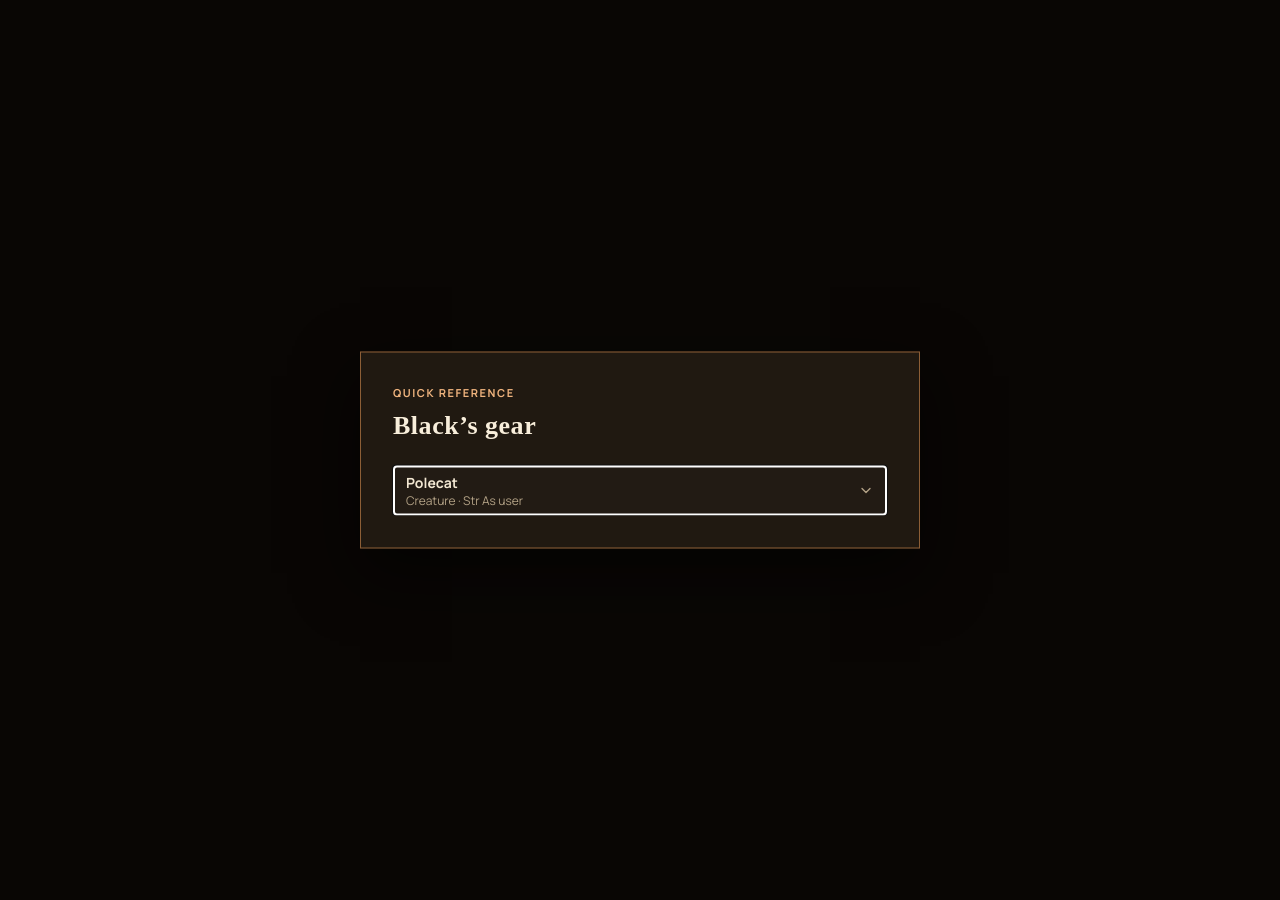
Test case: the gear quick reference › reads out an animal's profile and its beast's specials
The image size is (1280, 900).
Click the button "Polecat Creature · Str As user" at coordinates (432, 482), box [394,466,886,514]
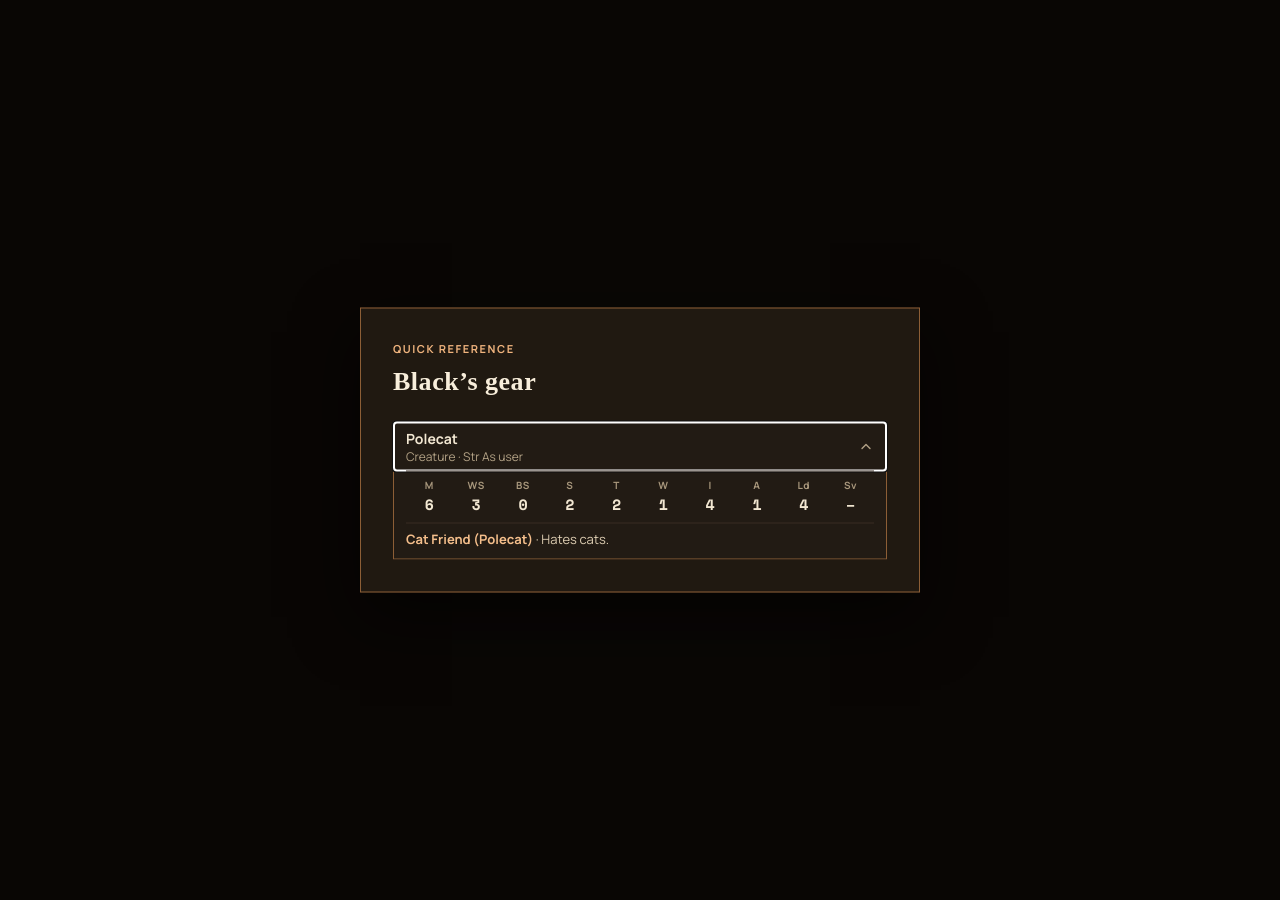
Check: the text "Cat Friend (Polecat)" is shown, box [406,529,533,547]
Check: the text "Cat Friend (Polecat) · Hates cats." is shown, box [406,529,609,547]
Check: the text "WS" is shown, box [468,478,485,492]
